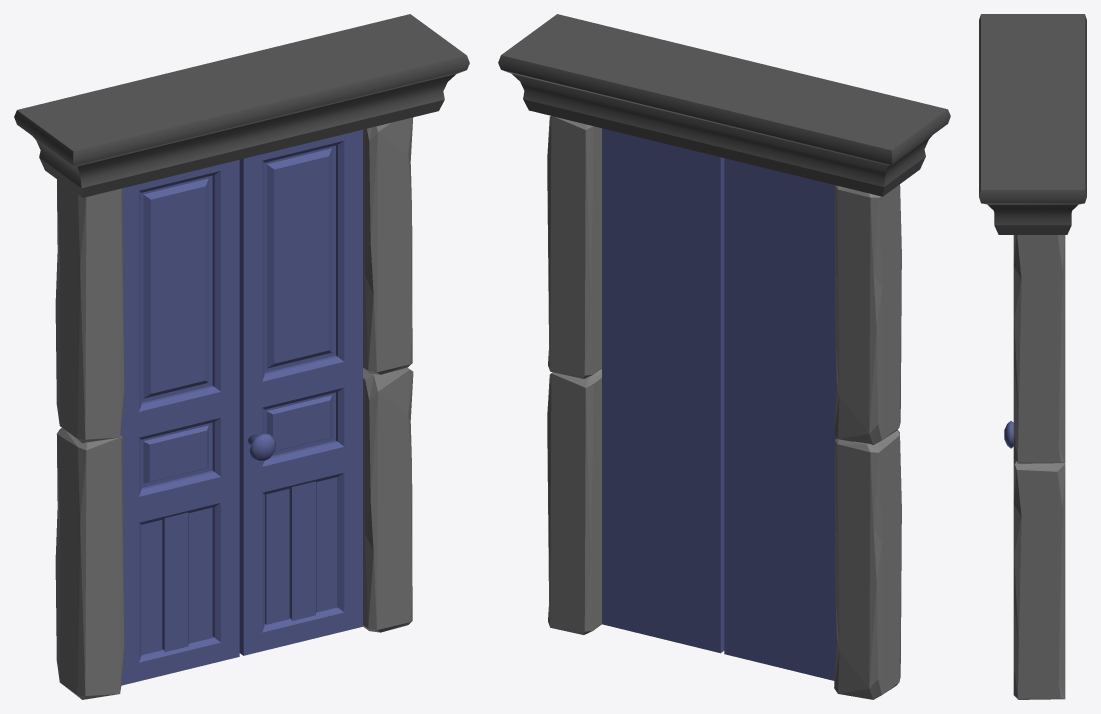
The model's file is SM_door_01.fbx.
3 renders of one model, left to right at view 1: azimuth 30°, elevation 25°; view 2: azimuth 150°, elevation 25°; view 3: azimuth 270°, elevation 25°, orthographic. The views are drawn at different scales.
Parts seen in each view (by area): view 1: Object32432; view 2: Object32432; view 3: Object32432.
Boxes of the visible parts, x1,y1,x2,y2 form: Object32432: (14,14,469,699); Object32432: (498,14,950,699); Object32432: (979,14,1086,699).
Size of the model in its own units: 82.8 by 115 by 21.26.
